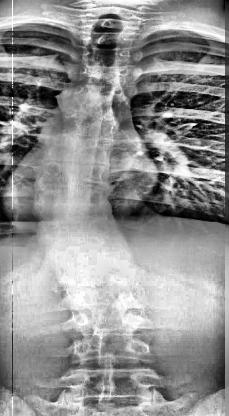Vertebrae: (64, 364, 164, 400), (66, 330, 160, 368), (56, 299, 152, 333), (45, 245, 133, 282), (35, 218, 124, 254), (39, 128, 119, 168), (55, 276, 141, 310), (34, 159, 118, 191), (31, 189, 115, 221), (63, 78, 138, 110), (55, 104, 127, 132), (70, 60, 140, 84), (78, 10, 146, 34), (72, 43, 140, 66), (78, 26, 143, 48)
